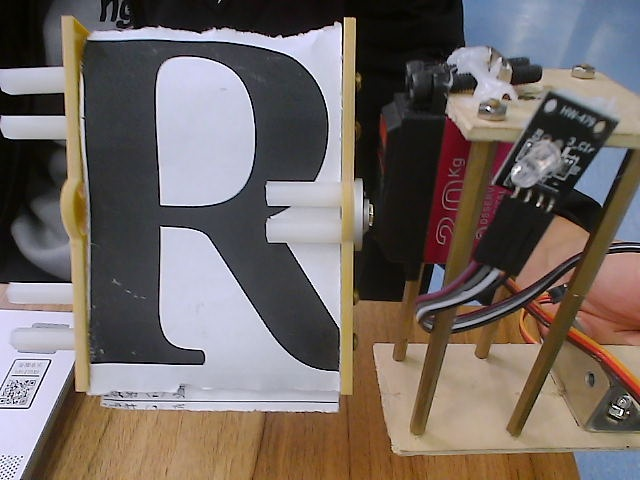R: (10, 7, 362, 431)
